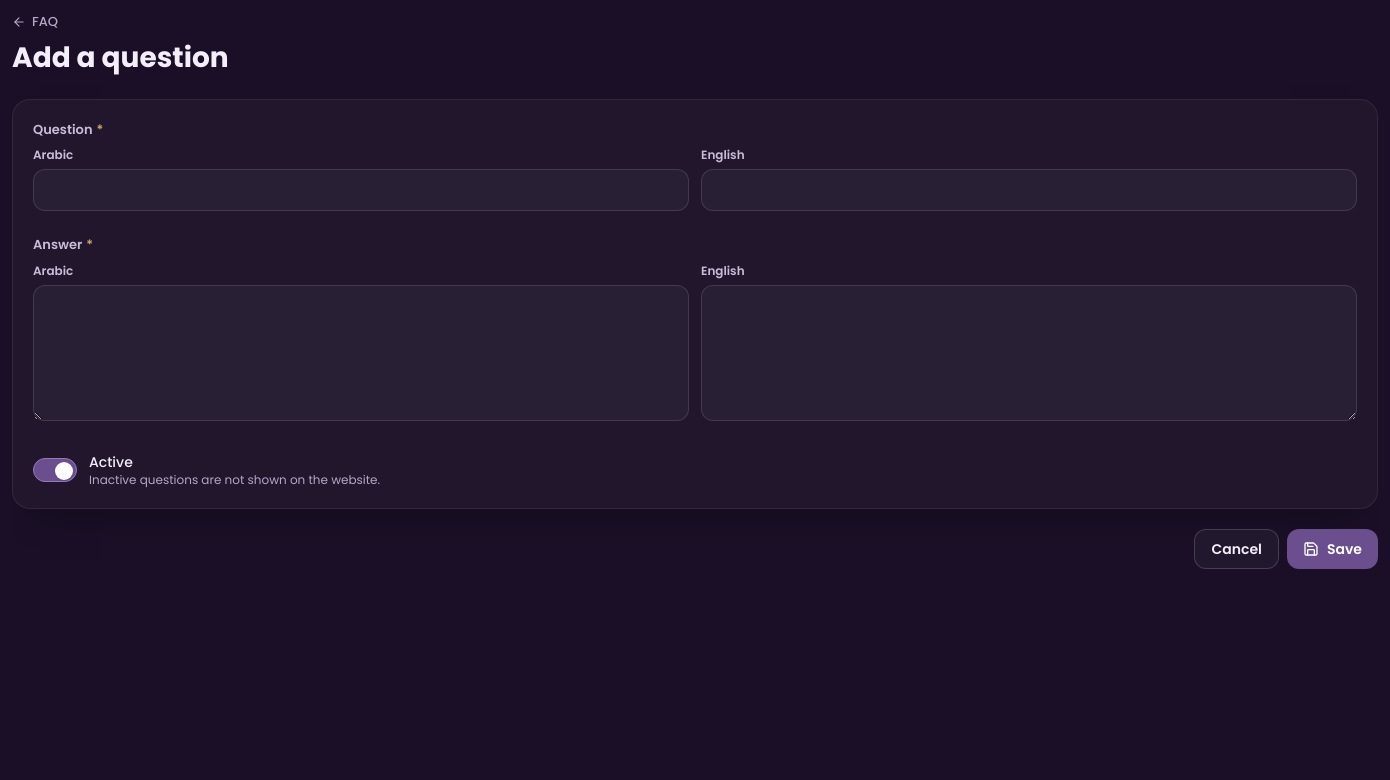
Scenario: FaqCreate › shows the server validation errors on the matching fields and stays on the page
The width and height of the screenshot is (1390, 780).
Type "سؤال" into the field named "Question (Arabic)".
click(361, 190); type("سؤال")  # box [33, 169, 689, 211]
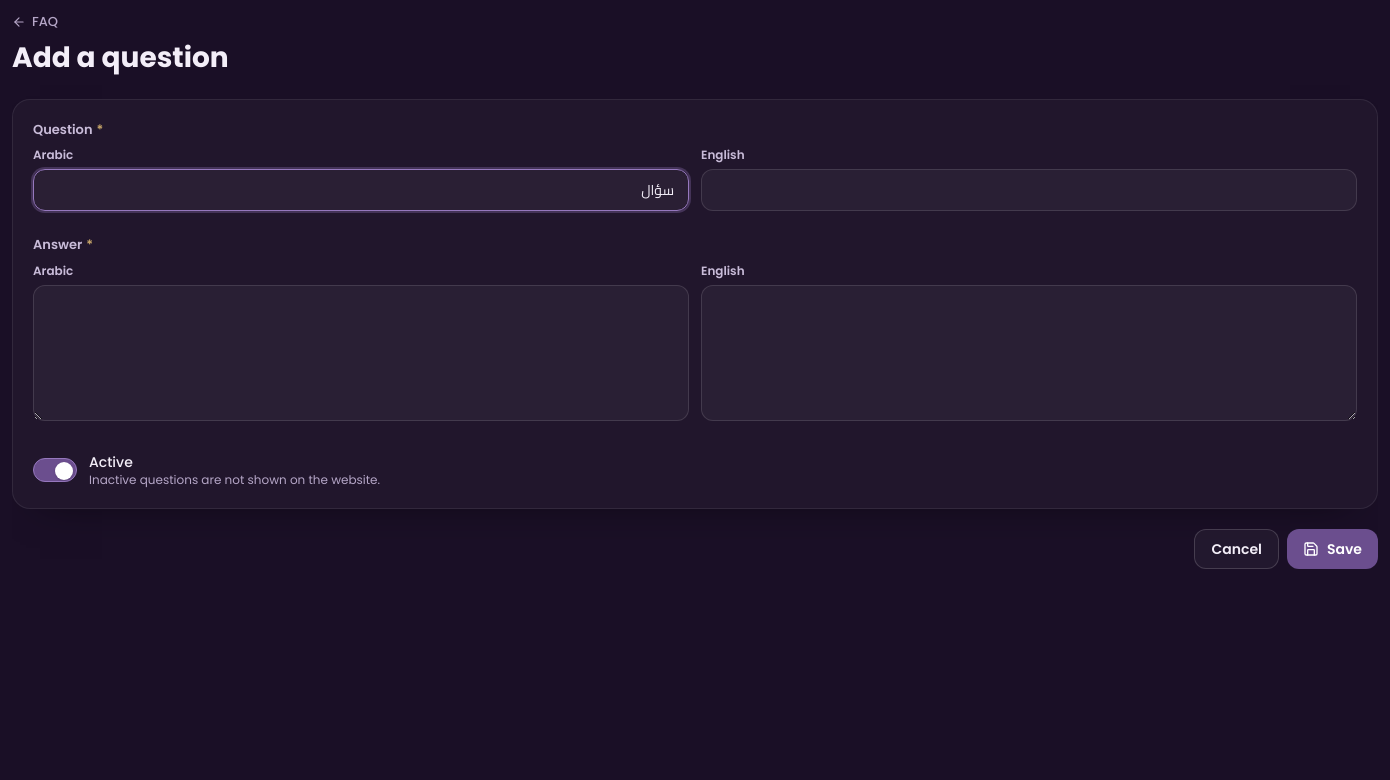
Type "A question?" into the field named "Question (English)".
click(1029, 190); type("A question?")  # box [701, 169, 1357, 211]
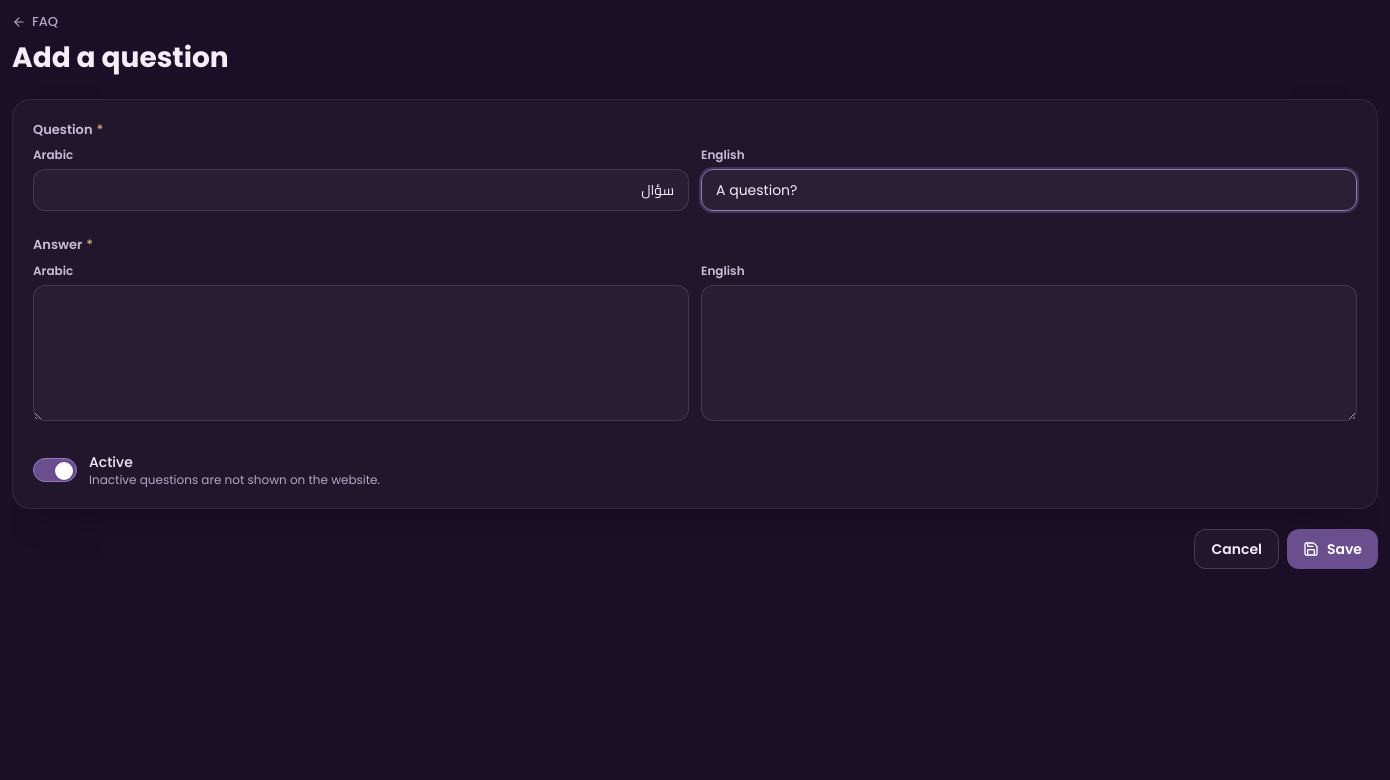
Type "جواب" into the text box named "Answer (Arabic)".
click(361, 353); type("جواب")  # box [33, 285, 689, 421]
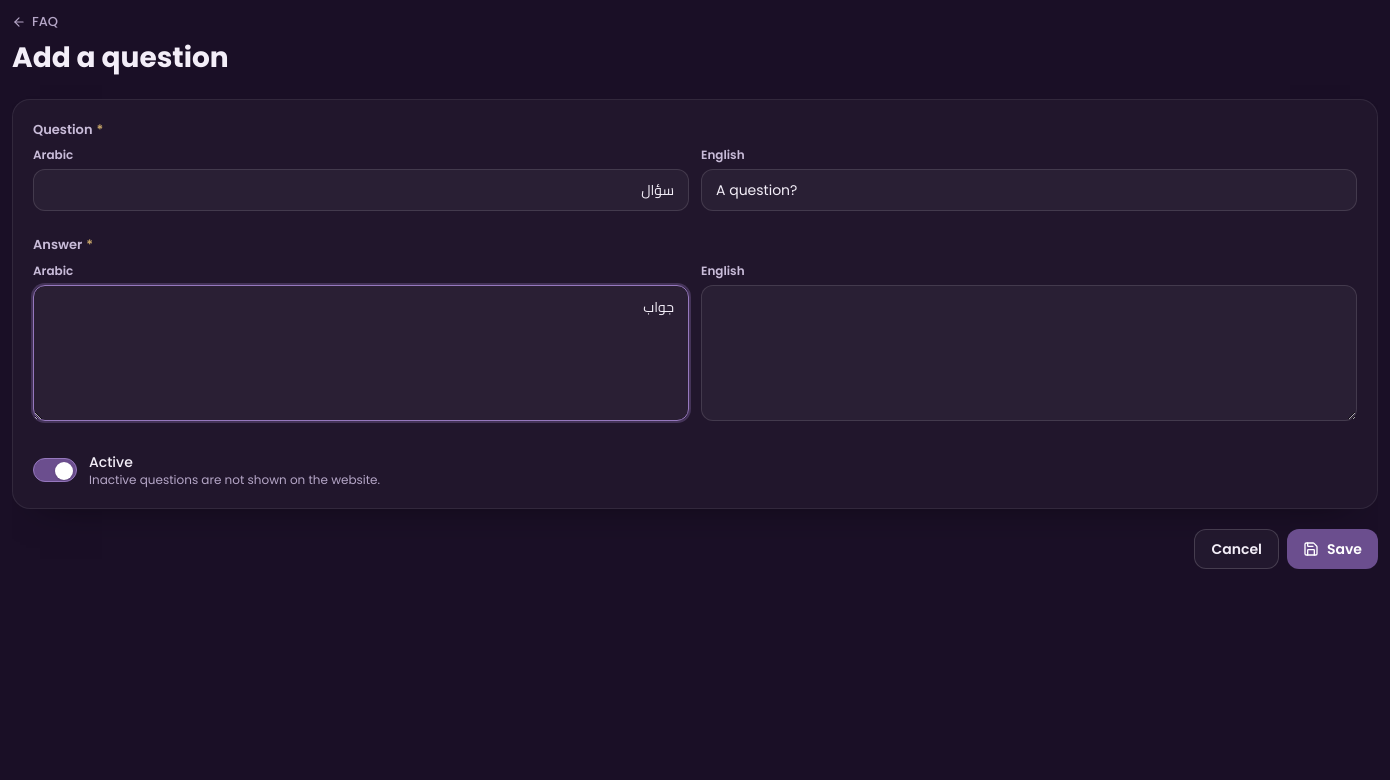
Type "An answer" into the text box named "Answer (English)".
click(1029, 353); type("An answer")  # box [701, 285, 1357, 421]
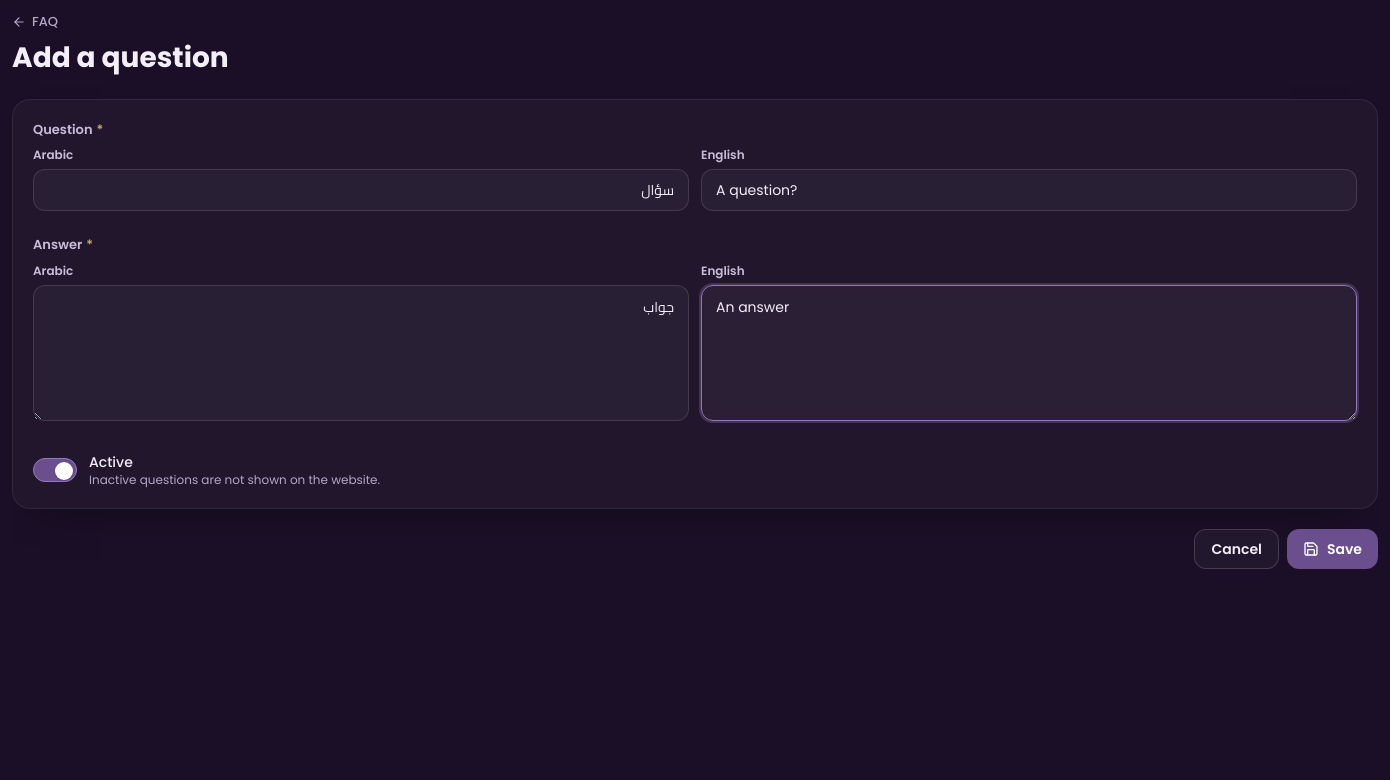
Click the button "Save".
click(1332, 548)  # box [1287, 528, 1378, 568]
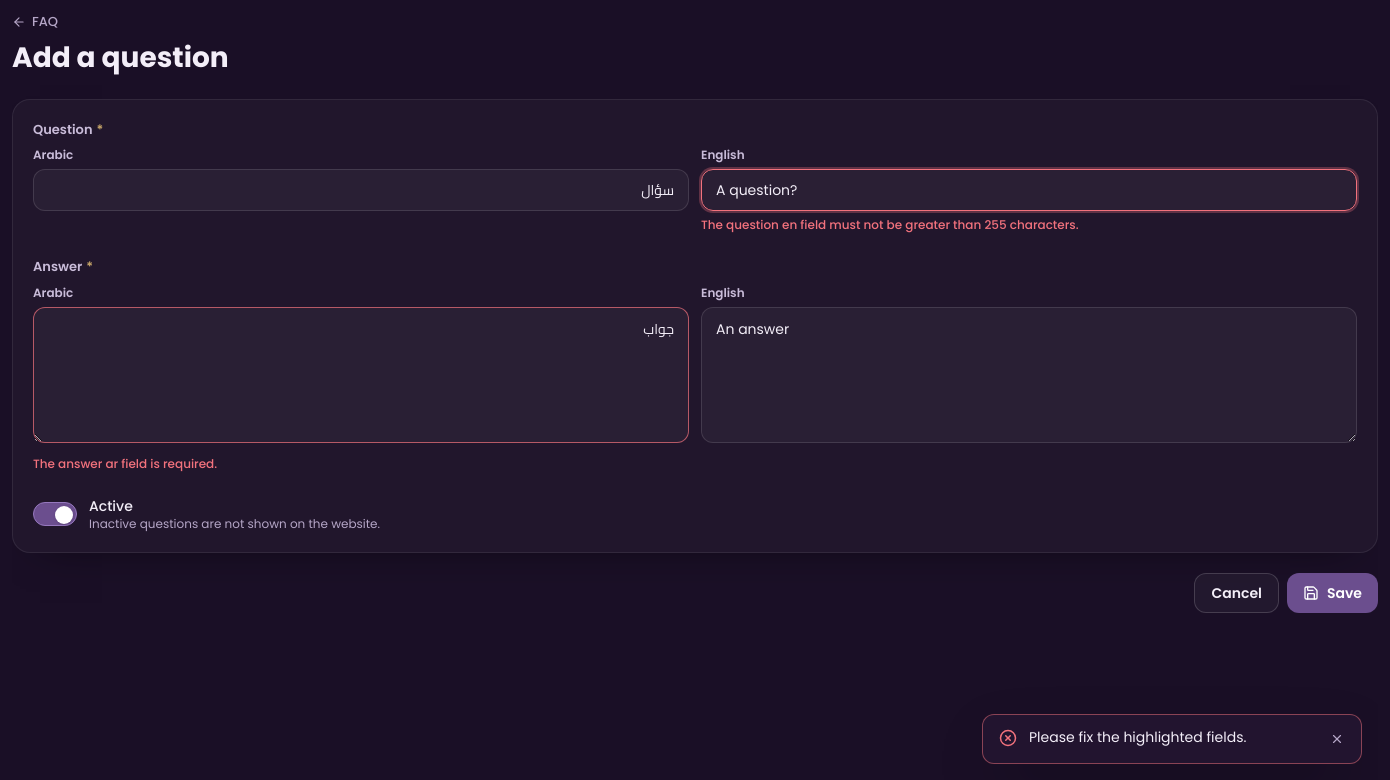
Now the text "The question en field must not be greater than 255 characters." is shown, box [701, 216, 1079, 233]
Now the text "The answer ar field is required." is shown, box [33, 454, 217, 472]
Now the text "Please fix the highlighted fields." is shown, box [1029, 727, 1246, 747]
